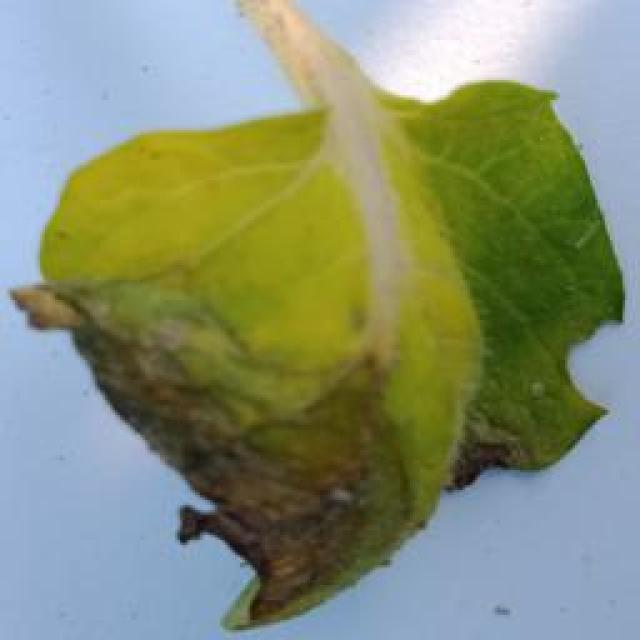Potato_Late_Blight: (14, 79, 630, 640)
